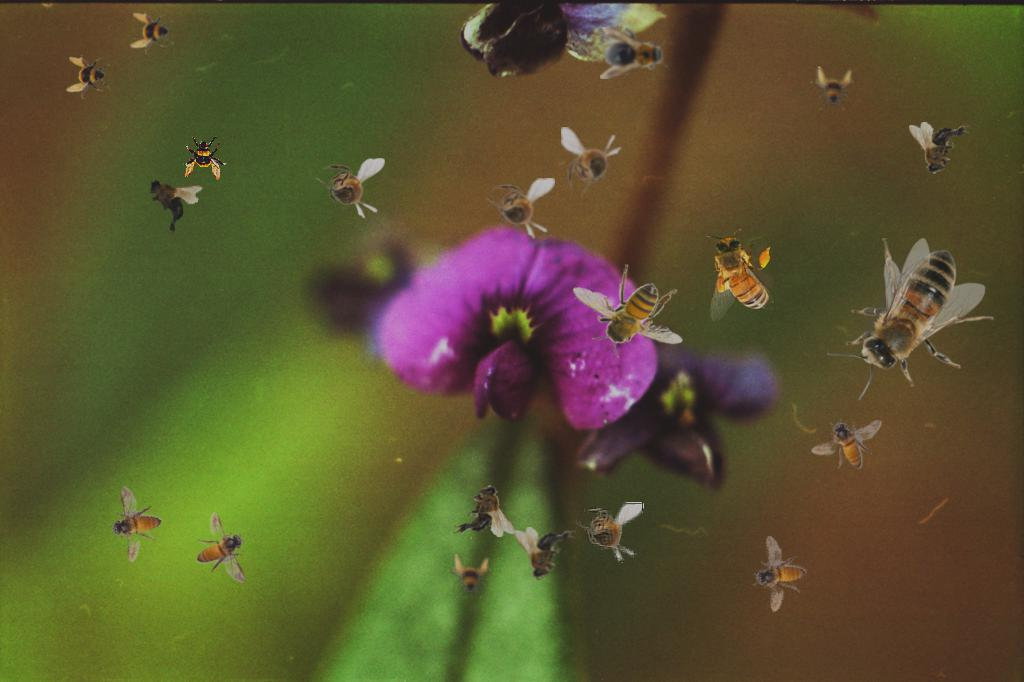Bee: (827, 238, 994, 400), (572, 264, 683, 358), (129, 160, 208, 242), (706, 229, 774, 322), (743, 534, 815, 619), (100, 485, 170, 568), (572, 500, 645, 564), (485, 178, 555, 239), (561, 127, 622, 197), (315, 158, 385, 219), (811, 419, 882, 469), (196, 512, 246, 583), (600, 27, 668, 79), (453, 484, 515, 537), (514, 527, 576, 580), (909, 122, 971, 175), (130, 11, 174, 55), (447, 554, 491, 598), (810, 66, 854, 110), (183, 136, 227, 180), (66, 55, 110, 99)
